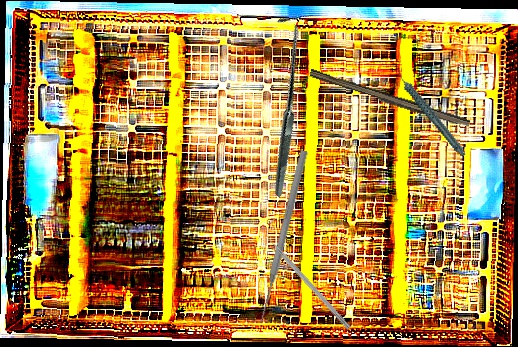Chopper: (260, 226, 357, 330)
Handpiece: (395, 58, 467, 167)
Hook Surgical: (190, 14, 374, 198)
Pusher: (255, 149, 310, 324)
Scalpel Handle: (307, 68, 472, 131)
